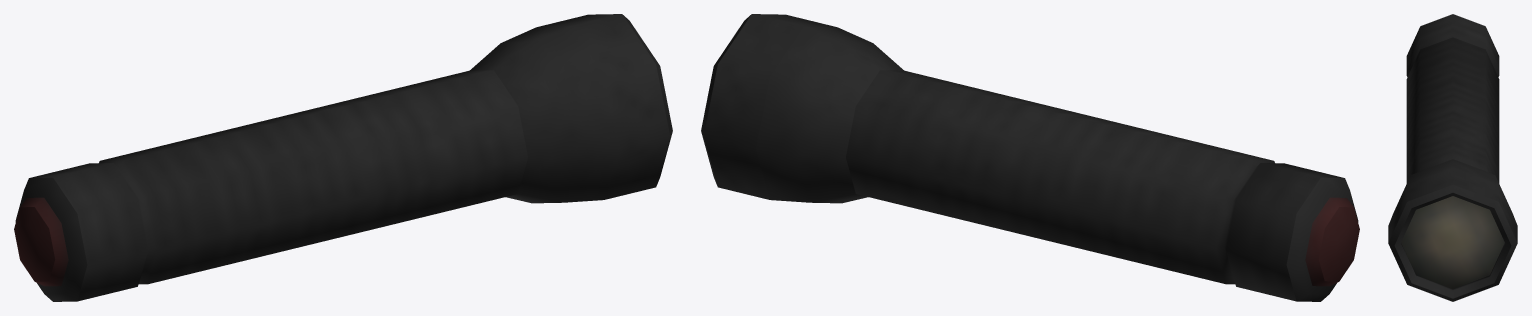
The model's file is flashlight_3.obj.
3 renders of one model, left to right at view 1: azimuth 30°, elevation 25°; view 2: azimuth 150°, elevation 25°; view 3: azimuth 270°, elevation 25°, orthographic. The views are drawn at different scales.
Parts seen in each view (by area): view 1: flashlight_3; view 2: flashlight_3; view 3: flashlight_3.
Part boxes in pixels (x1,y1,x2,y2): flashlight_3: (14,14,672,301); flashlight_3: (701,14,1359,301); flashlight_3: (1388,14,1517,301).
Bounding box in the file's own units: 0.2238 × 0.0616 × 0.0616.
